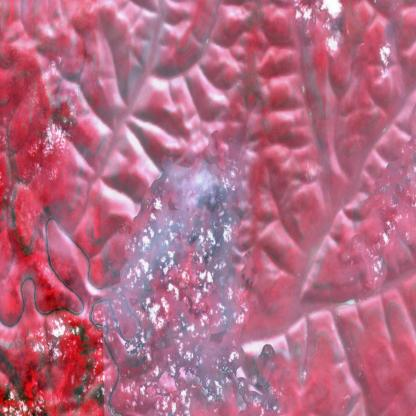fire: (175, 182, 242, 270)
